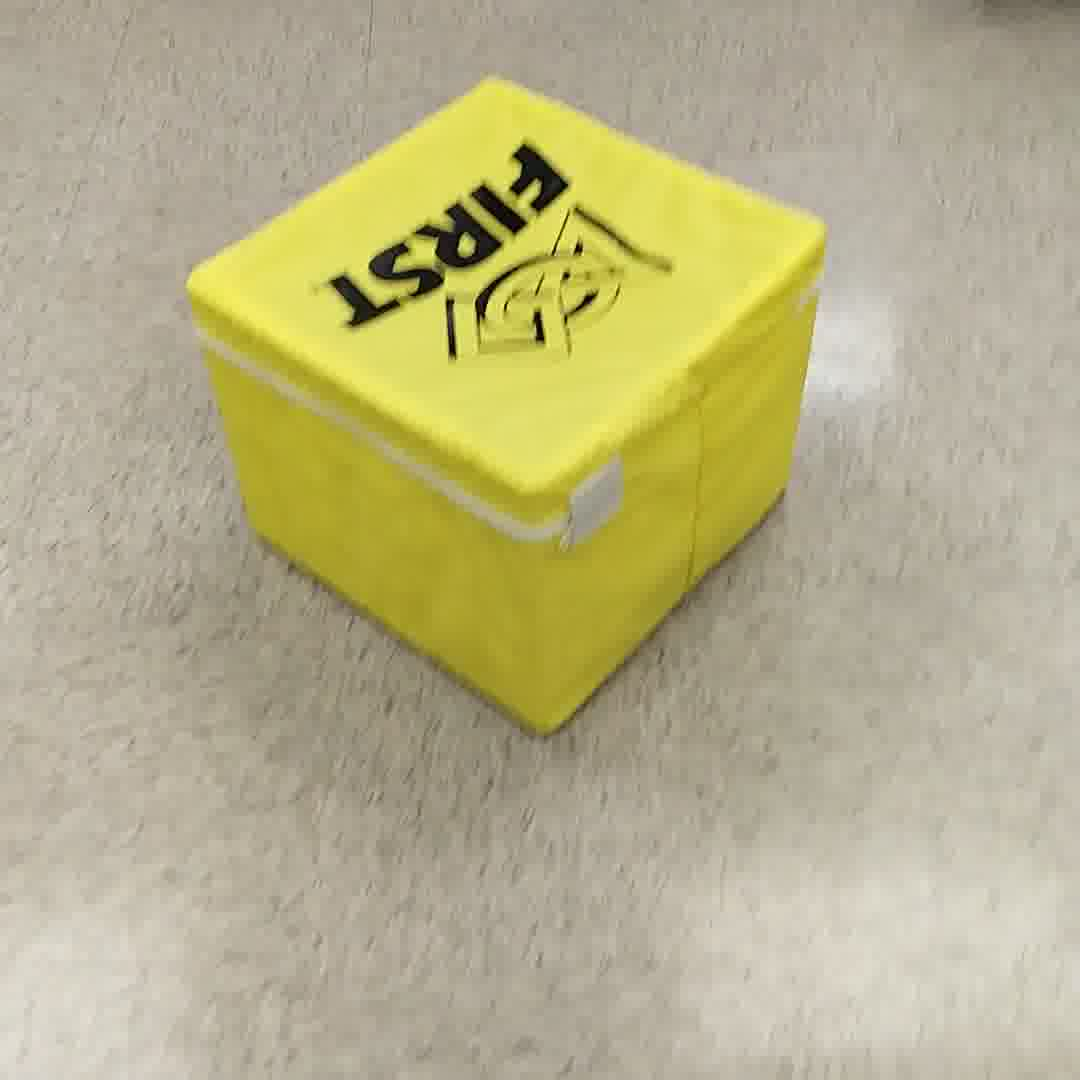box: (165, 71, 824, 736)
